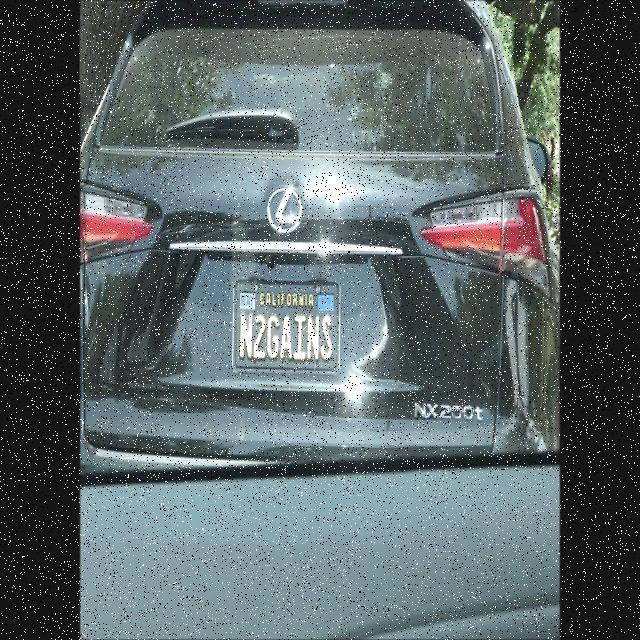LicensePlate: (229, 282, 342, 379)
